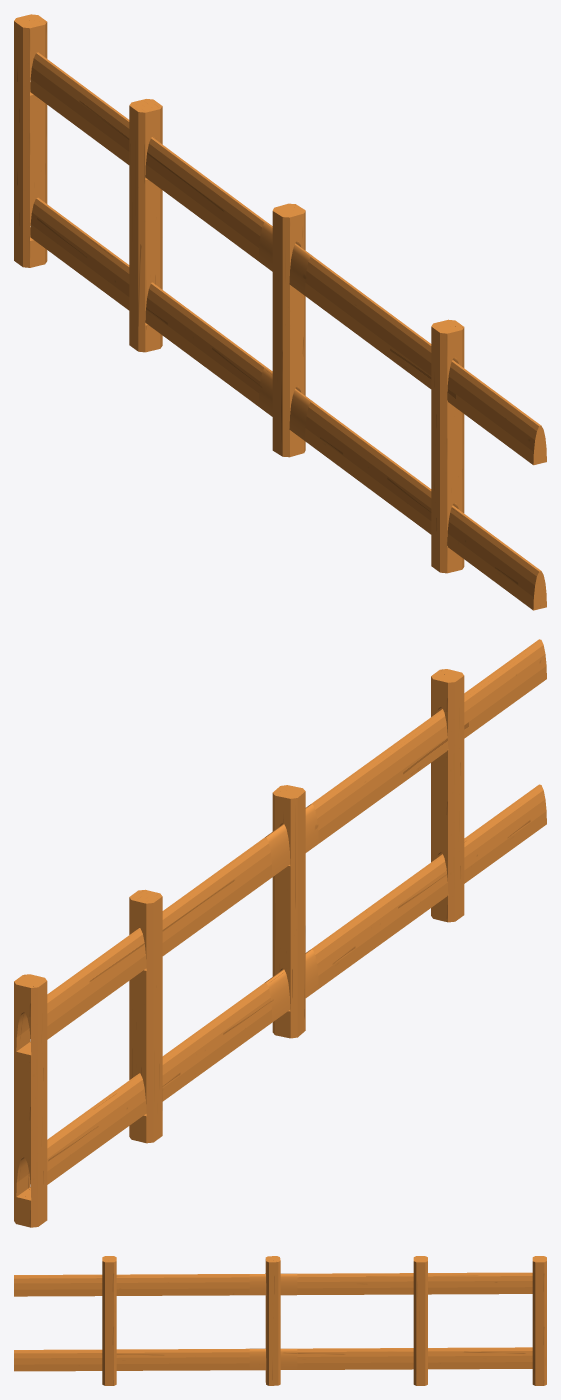
File: WaxWorld_Fence.FBX
3 views of the same model, one above another, from view 1: azimuth 30°, elevation 25°; view 2: azimuth 150°, elevation 25°; view 3: azimuth 270°, elevation 25° (orthographic). The views are drawn at different scales.
Visible parts, largest first — view 1: Cylinder003, Cylinder006, Box001, Box003, Box004, Box002; view 2: Cylinder006, Cylinder003, Box004, Box003, Box002, Box001; view 3: Cylinder006, Cylinder003, Box001, Box002, Box003, Box004.
Part boxes in pixels (bbox=[...]): Cylinder003: bbox=[30, 52, 546, 465]; Cylinder006: bbox=[30, 197, 546, 610]; Box001: bbox=[272, 203, 305, 457]; Box003: bbox=[129, 99, 162, 352]; Box004: bbox=[14, 14, 47, 267]; Box002: bbox=[431, 319, 464, 573]; Cylinder006: bbox=[30, 784, 546, 1184]; Cylinder003: bbox=[30, 639, 546, 1039]; Box004: bbox=[14, 974, 47, 1227]; Box003: bbox=[129, 889, 162, 1143]; Box002: bbox=[431, 669, 464, 922]; Box001: bbox=[272, 785, 305, 1038]; Cylinder006: bbox=[14, 1347, 532, 1371]; Cylinder003: bbox=[14, 1272, 532, 1296]; Box001: bbox=[265, 1256, 280, 1385]; Box002: bbox=[102, 1256, 116, 1385]; Box003: bbox=[413, 1256, 427, 1385]; Box004: bbox=[532, 1256, 546, 1385].
Size of the model in its own units: 9.98 by 90.27 by 353.
